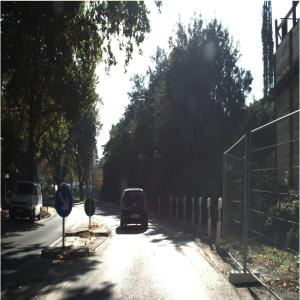keep right: (56, 186, 74, 219)
